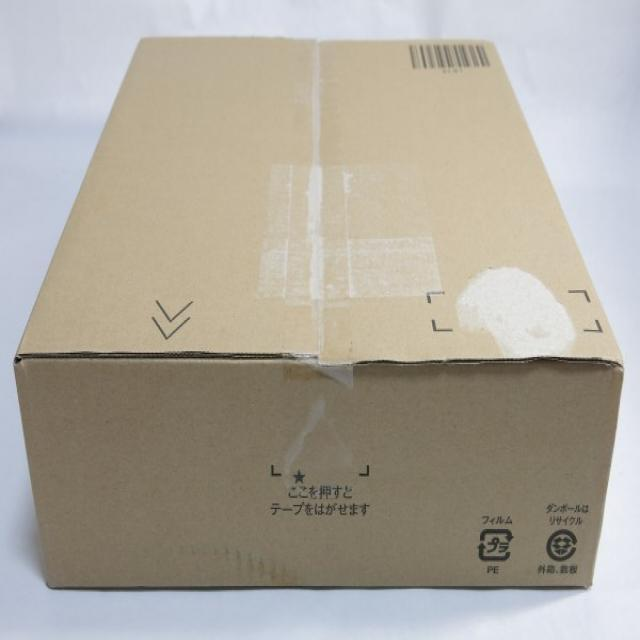-: (11, 30, 630, 595)
